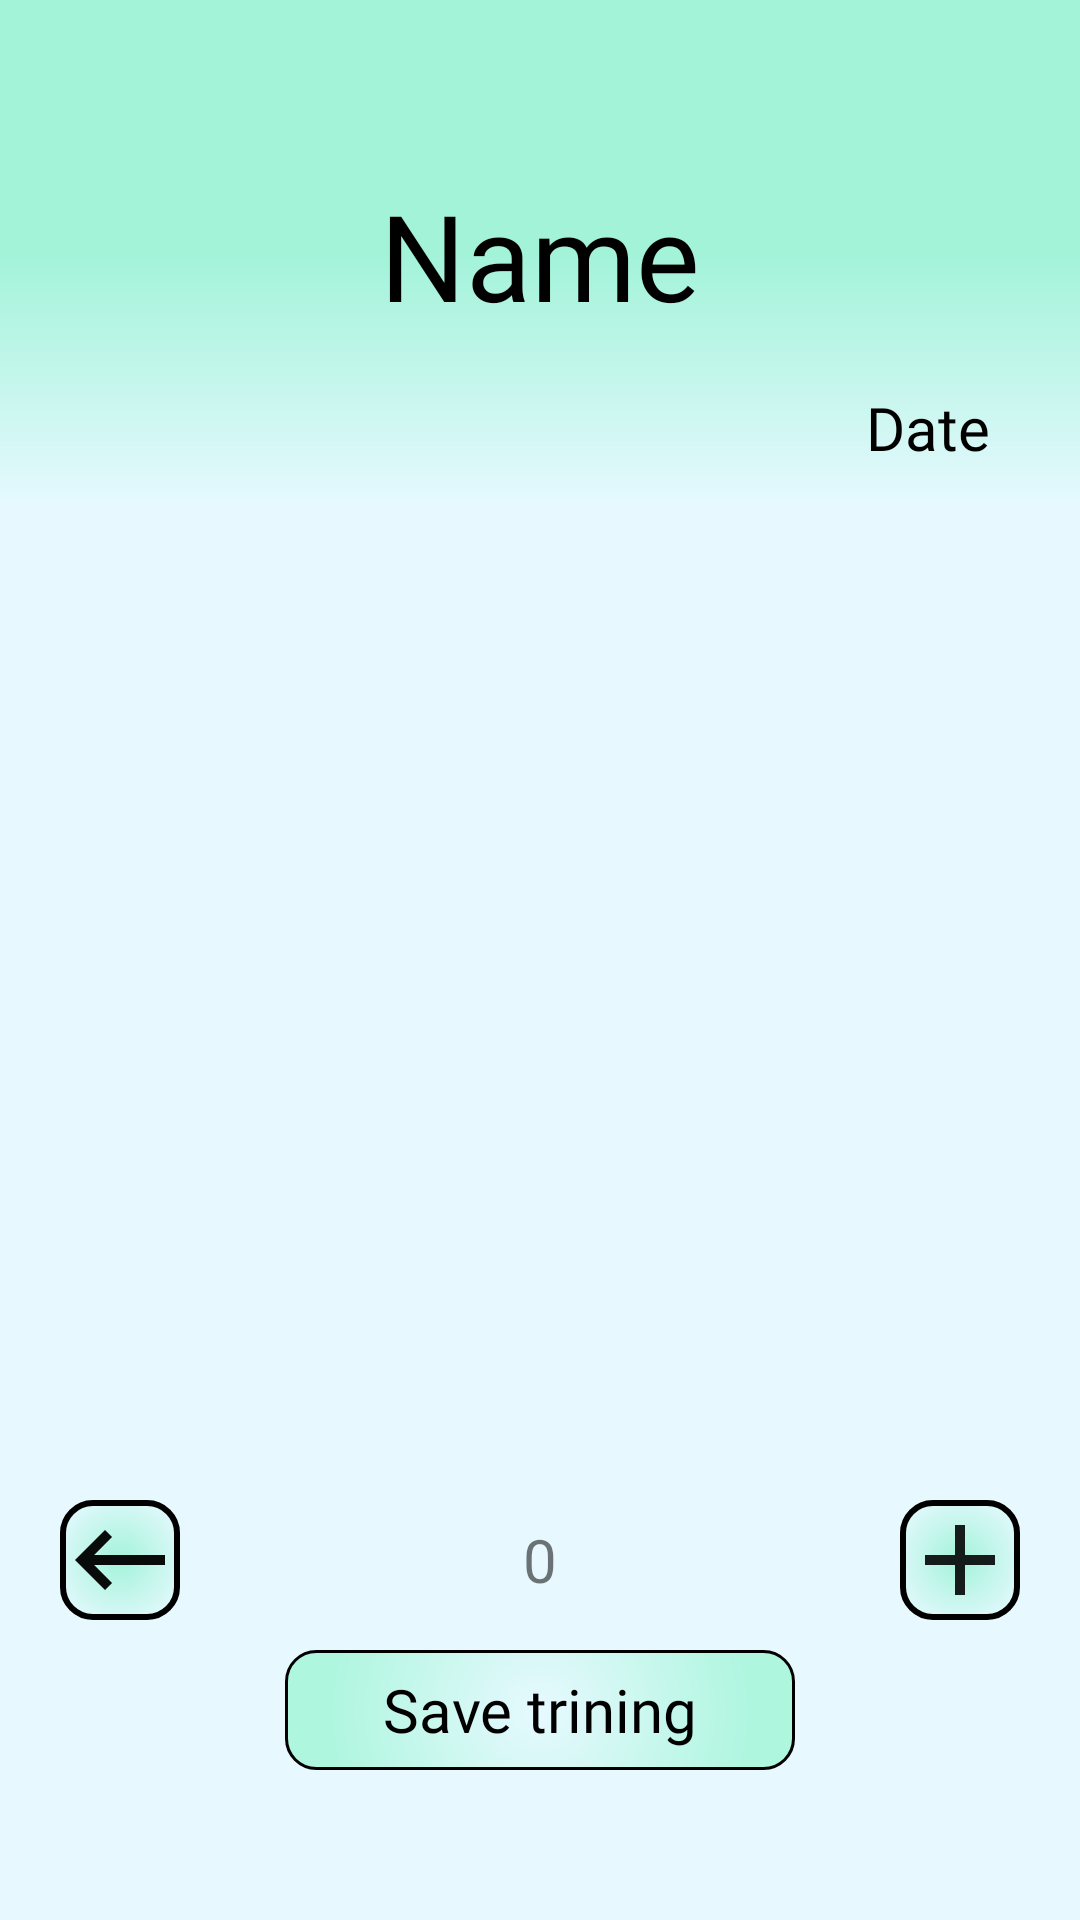

Named icons in this screenshot (1080*1920) and their bounding boxes, (x1=x1, y1=y1, x2=x2, y2=y2):
add: (x1=900, y1=1500, x2=1020, y2=1620)
keyboard backspace: (x1=60, y1=1500, x2=180, y2=1620)
